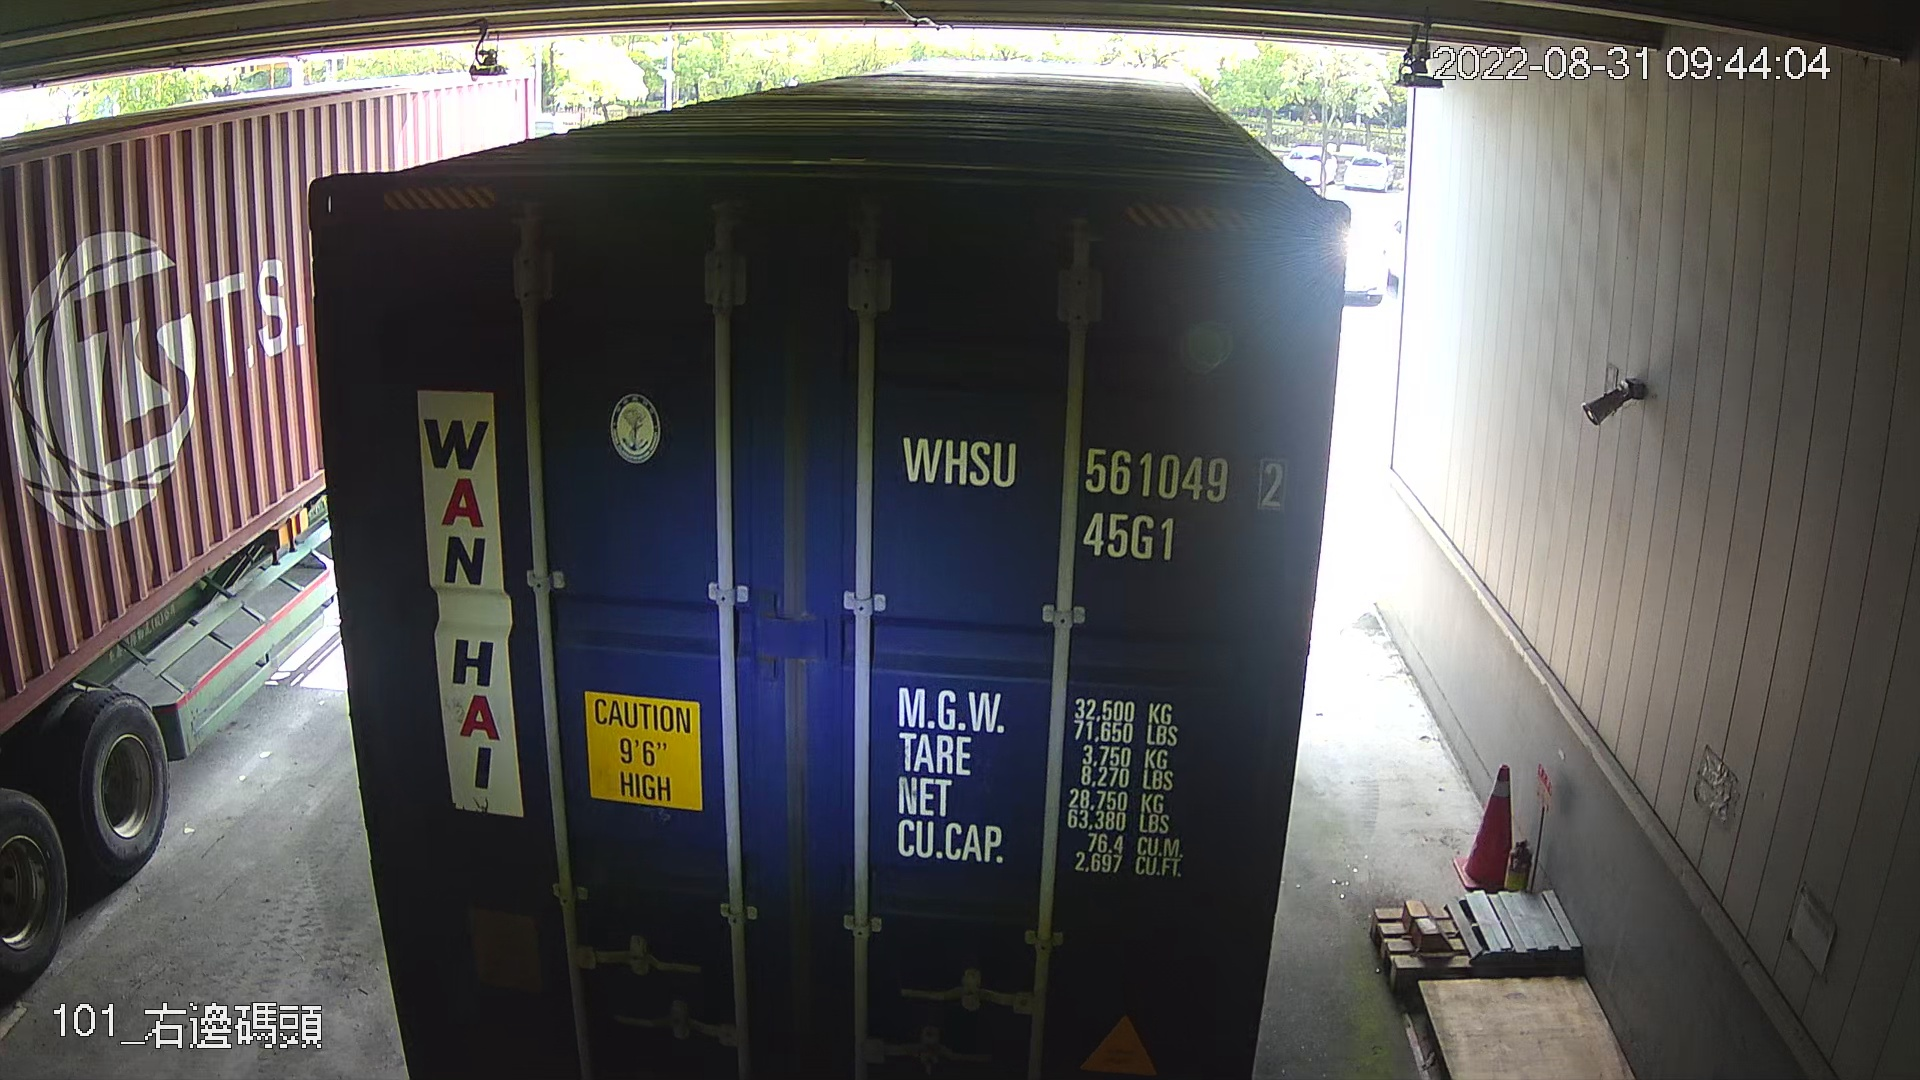container: (889, 414, 1298, 574)
